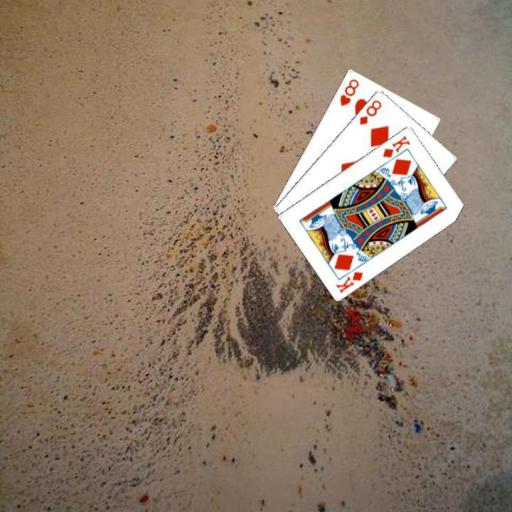8D: (356, 96, 383, 127)
8H: (337, 76, 361, 108)
KD: (379, 133, 412, 160), (333, 268, 365, 294)
